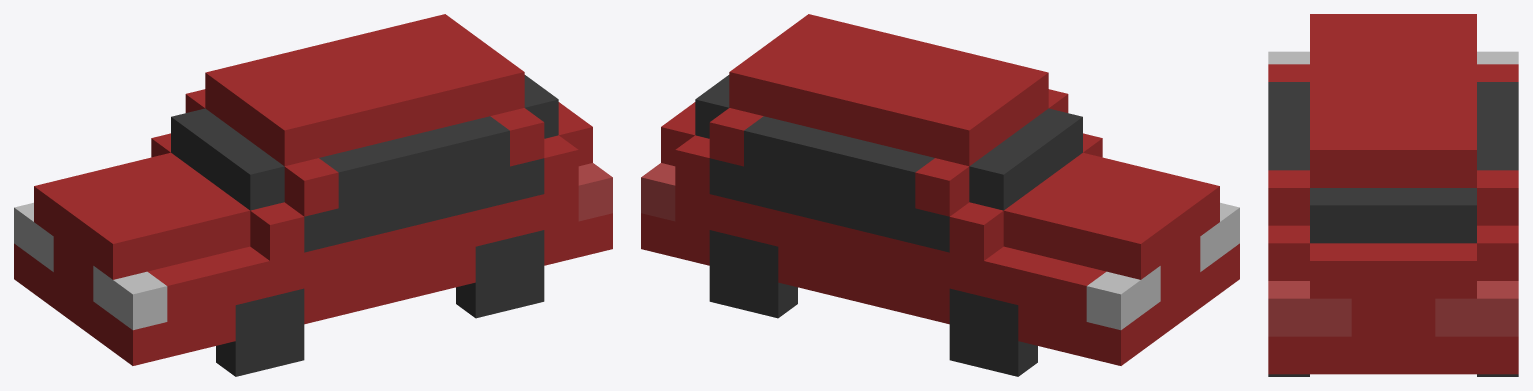
File: car-v1-red.gltf
The picture shows the model from 3 angles, left to right: view 1: azimuth 30°, elevation 25°; view 2: azimuth 150°, elevation 25°; view 3: azimuth 270°, elevation 25°; orthographic projection. The views are drawn at different scales.
Visible parts, largest first — view 1: model, wheels; view 2: model, wheels; view 3: model, wheels.
Boxes of the visible parts, x1=… form: model: x1=14, y1=14, x2=612, y2=365; wheels: x1=216, y1=230, x2=544, y2=376; model: x1=641, y1=14, x2=1239, y2=365; wheels: x1=709, y1=230, x2=1037, y2=376; model: x1=1268, y1=14, x2=1518, y2=374; wheels: x1=1268, y1=374, x2=1518, y2=376.
Size of the model in its own units: 1.4 by 0.6 by 0.6.
2 materials, 2 textured.
